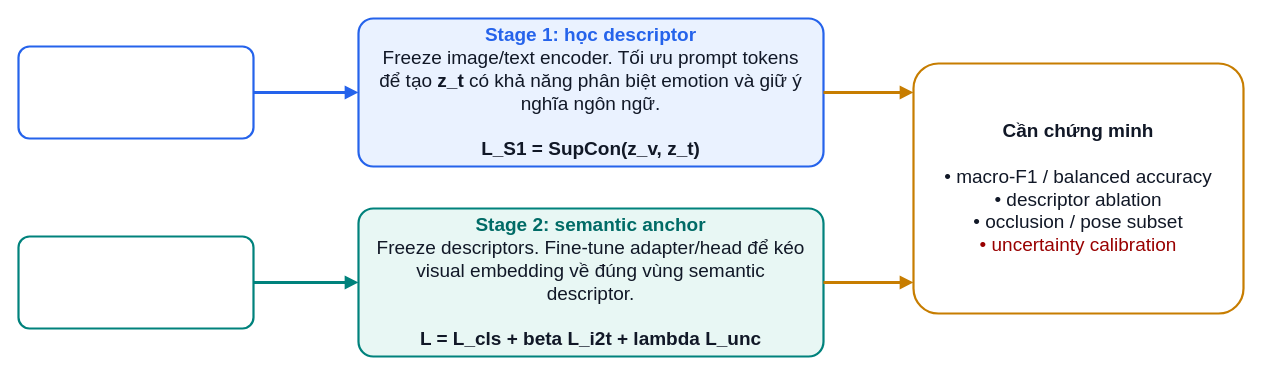
This 1262x375 diagram has some shape labels left out. Each missing label, with the centre of its shape:
Text branch Emotion label + AU/pseudo-AU -> prompt: the point at 135,282
Visual branch Ảnh mặt -> preprocessing an toàn cho FER: the point at 135,92
